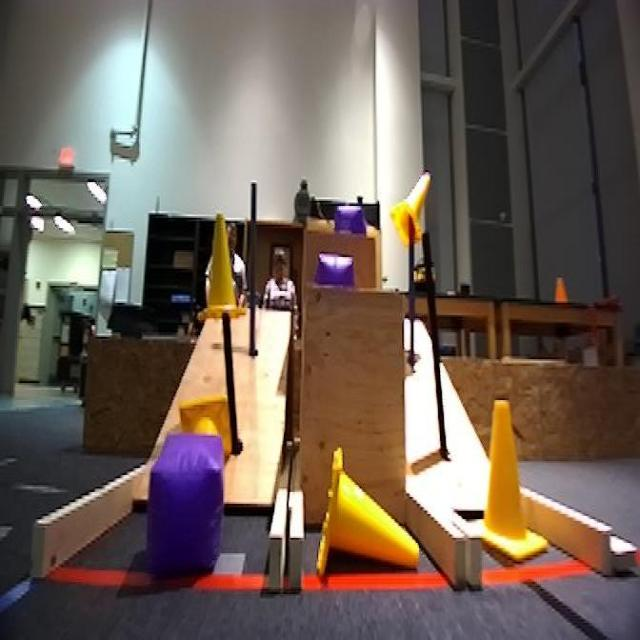frc_cone: (476, 392, 547, 570), (319, 448, 427, 565), (206, 226, 251, 325), (392, 165, 432, 247), (173, 407, 239, 451)
frc_cube: (142, 441, 225, 575), (316, 249, 354, 296), (330, 199, 364, 250)
